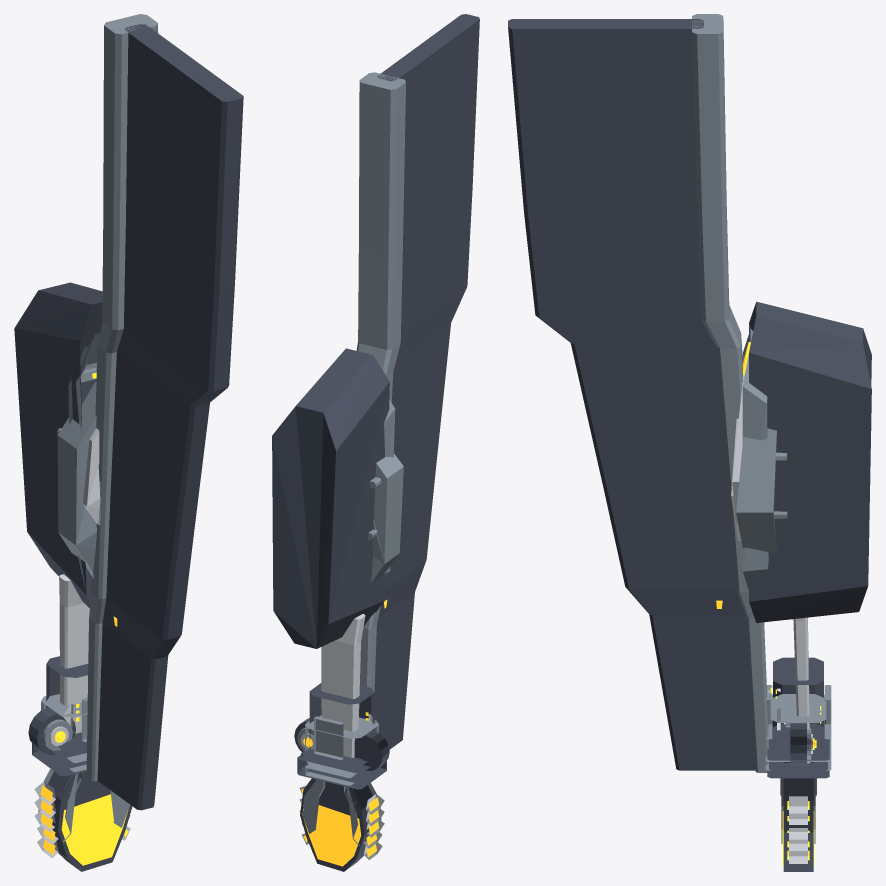
The model's file is LaserRipperArmW_Left_T1.glb.
The picture shows the model from 3 angles, left to right: view 1: azimuth 30°, elevation 25°; view 2: azimuth 150°, elevation 25°; view 3: azimuth 270°, elevation 25°; orthographic projection. The views are drawn at different scales.
Visible parts, largest first — view 1: BasicArmW_Left_Skel_part00, BasicArmW_Left_Skel_part01, Laser Ripper Receiver, Photon Cutting Edge (Animated), BasicArmW_Left_Skel_part02, Ripper Blade Rails, Alternating Laser Teeth; view 2: BasicArmW_Left_Skel_part00, BasicArmW_Left_Skel_part01, Laser Ripper Receiver, BasicArmW_Left_Skel_part02, Ripper Blade Rails, Photon Cutting Edge (Animated), Alternating Laser Teeth; view 3: BasicArmW_Left_Skel_part00, BasicArmW_Left_Skel_part01, Laser Ripper Receiver, Ripper Blade Rails, BasicArmW_Left_Skel_part02, Alternating Laser Teeth.
Boxes of the visible parts, left/top/right/bottom form: BasicArmW_Left_Skel_part00: left=86, top=14, right=243, bottom=810; BasicArmW_Left_Skel_part01: left=14, top=282, right=102, bottom=608; Laser Ripper Receiver: left=28, top=656, right=132, bottom=871; Photon Cutting Edge (Animated): left=40, top=703, right=129, bottom=865; BasicArmW_Left_Skel_part02: left=59, top=574, right=117, bottom=733; Ripper Blade Rails: left=38, top=694, right=129, bottom=842; Alternating Laser Teeth: left=34, top=703, right=130, bottom=858; BasicArmW_Left_Skel_part00: left=356, top=14, right=479, bottom=749; BasicArmW_Left_Skel_part01: left=272, top=348, right=403, bottom=648; Laser Ripper Receiver: left=294, top=683, right=389, bottom=871; BasicArmW_Left_Skel_part02: left=321, top=600, right=387, bottom=757; Ripper Blade Rails: left=297, top=715, right=381, bottom=846; Photon Cutting Edge (Animated): left=301, top=712, right=379, bottom=866; Alternating Laser Teeth: left=299, top=714, right=384, bottom=859; BasicArmW_Left_Skel_part00: left=508, top=14, right=768, bottom=772; BasicArmW_Left_Skel_part01: left=731, top=301, right=871, bottom=622; Laser Ripper Receiver: left=767, top=657, right=829, bottom=871; Ripper Blade Rails: left=765, top=685, right=831, bottom=843; BasicArmW_Left_Skel_part02: left=716, top=600, right=810, bottom=763; Alternating Laser Teeth: left=768, top=688, right=812, bottom=863.
Size of the model in its own units: 2.26 by 16.69 by 6.55.
